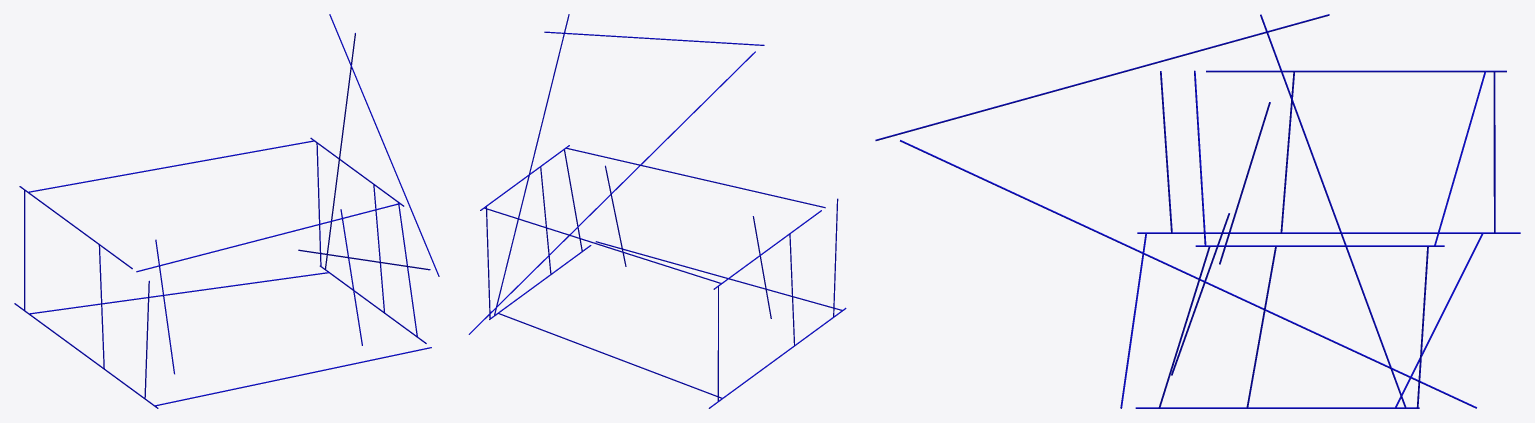
Rendered from corrected_3d_strokes.glb.
3 renders of one model, left to right at view 1: azimuth 30°, elevation 25°; view 2: azimuth 150°, elevation 25°; view 3: azimuth 270°, elevation 25°, orthographic. The views are drawn at different scales.
Visible parts, largest first — view 1: world; view 2: world; view 3: world.
Boxes of the visible parts, x1,y1,x2,y2 form: world: (14, 14, 439, 408); world: (468, 14, 846, 408); world: (875, 14, 1520, 408).
Bounding box in the file's own units: 9.12 × 9.18 × 14.16.
